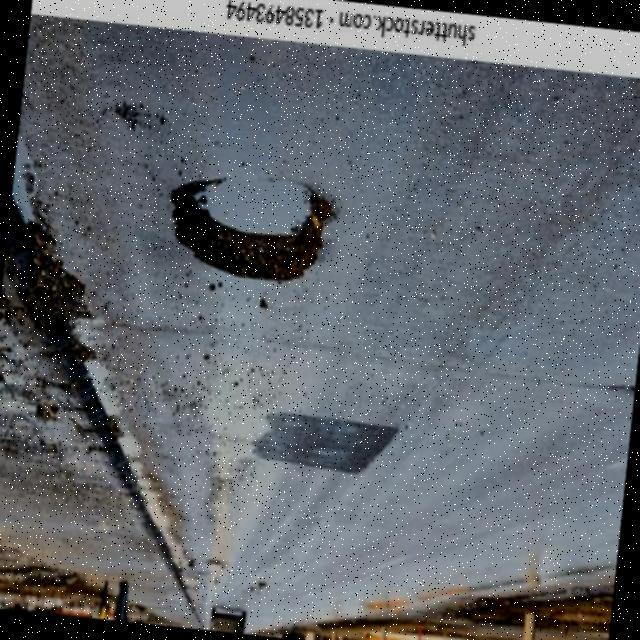Pothole: (170, 179, 331, 281)
